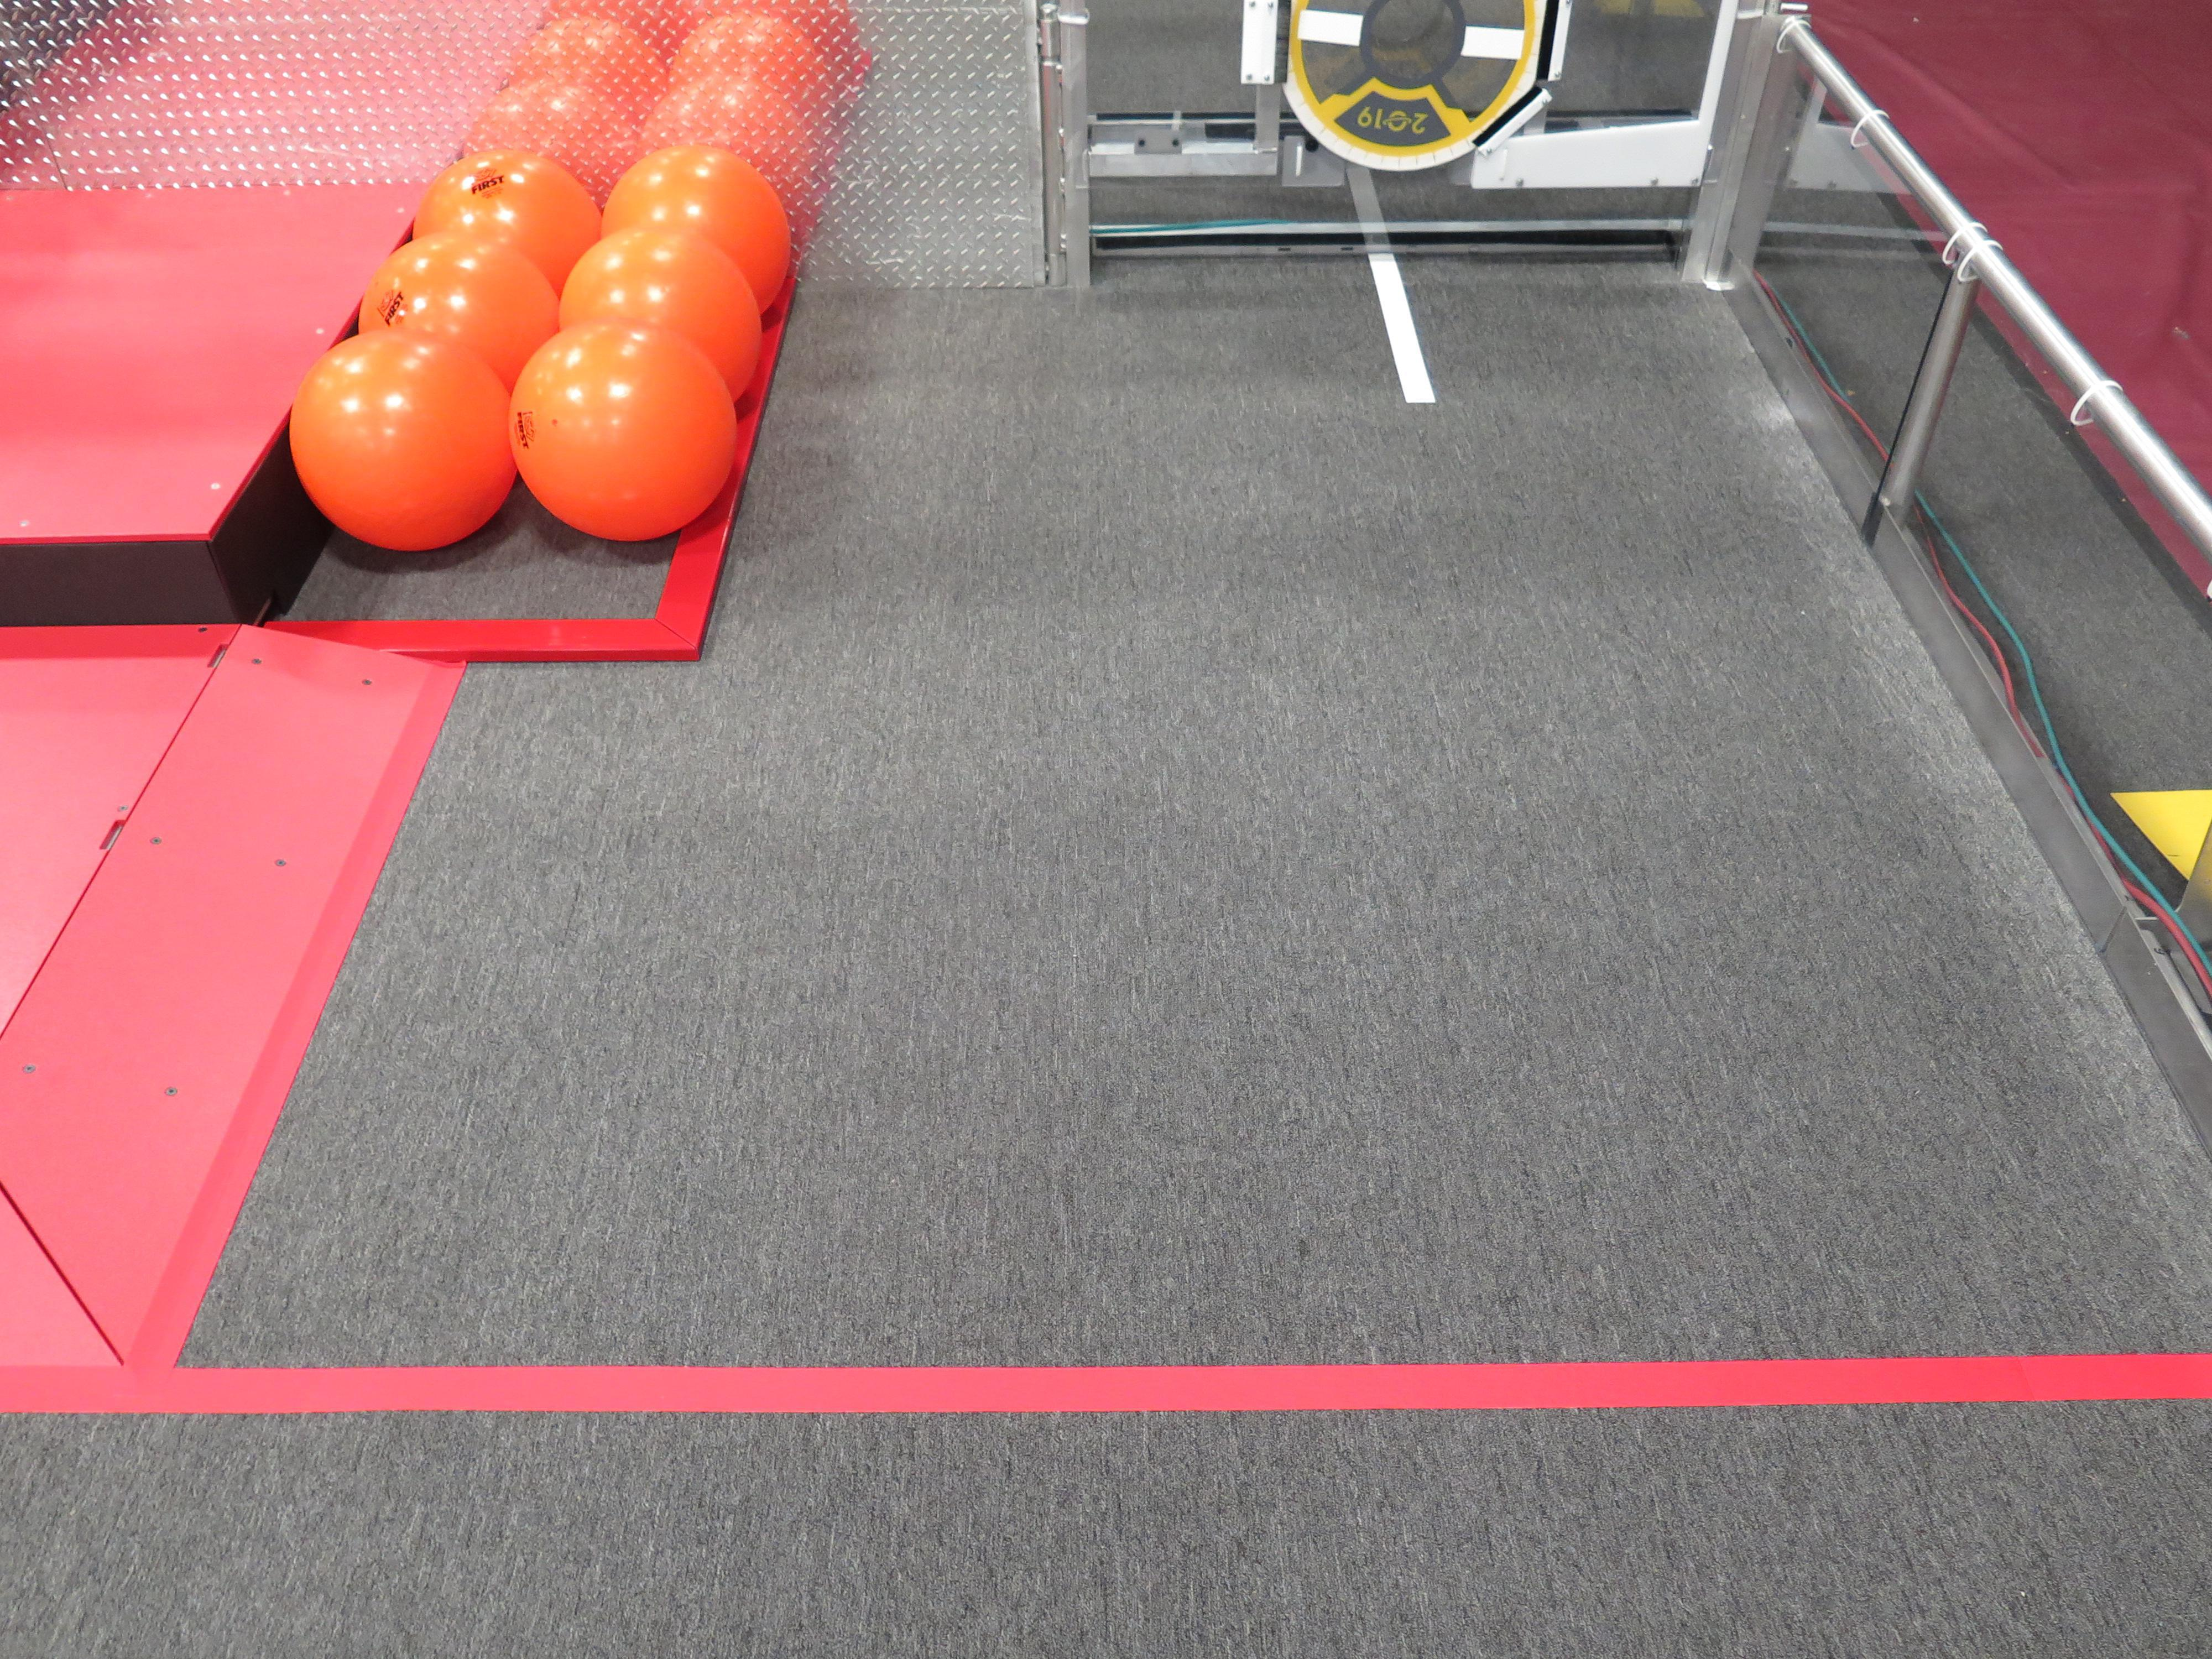Ball: (512, 319, 738, 544), (287, 329, 517, 551), (559, 230, 765, 401), (359, 234, 559, 403), (601, 150, 791, 317), (409, 150, 604, 301)
Hatch: (1277, 0, 1555, 174)
